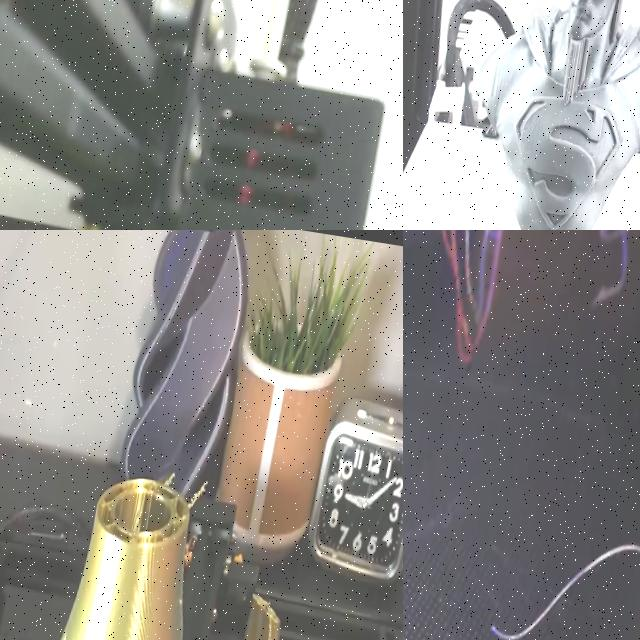spaghetti: (474, 507, 640, 640), (523, 230, 640, 328), (160, 453, 216, 518)
